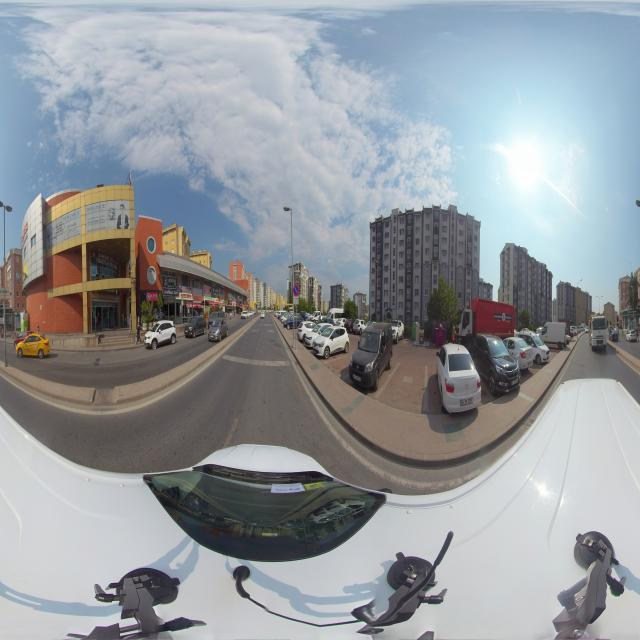SignStore: (140, 290, 159, 304), (163, 277, 178, 288), (163, 288, 179, 296), (179, 293, 192, 298), (219, 297, 227, 305), (194, 295, 203, 301), (212, 297, 219, 302), (204, 296, 212, 300), (228, 300, 232, 305), (233, 303, 236, 306), (240, 303, 242, 306), (244, 304, 246, 306)
